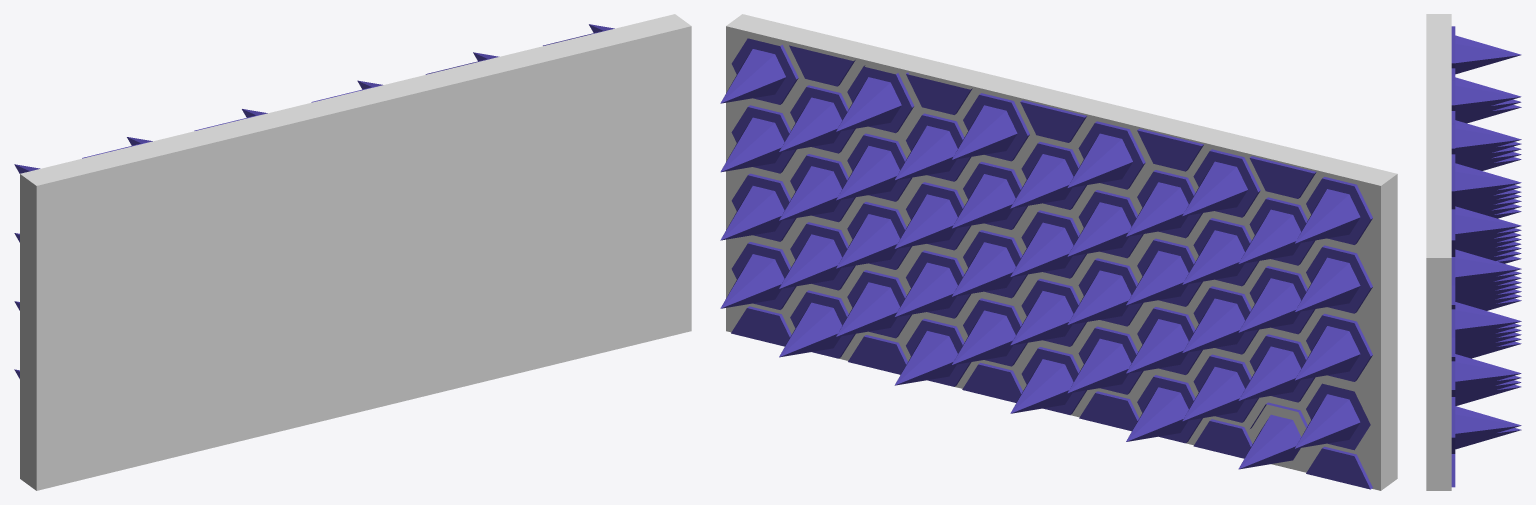
The model's file is spike2 - Copy.fbx.
3 views of the same model, side by side, from view 1: azimuth 30°, elevation 25°; view 2: azimuth 150°, elevation 25°; view 3: azimuth 270°, elevation 25° (orthographic). The views are drawn at different scales.
Visible parts, largest first — view 1: Cube.004; view 2: Cube.004; view 3: Cube.004.
Part boxes in pixels (<box>): Cube.004: <box>14,14,691,490</box>; Cube.004: <box>720,14,1397,490</box>; Cube.004: <box>1426,14,1521,490</box>.
Bounding box in the file's own units: 2251 × 1001 × 371.
